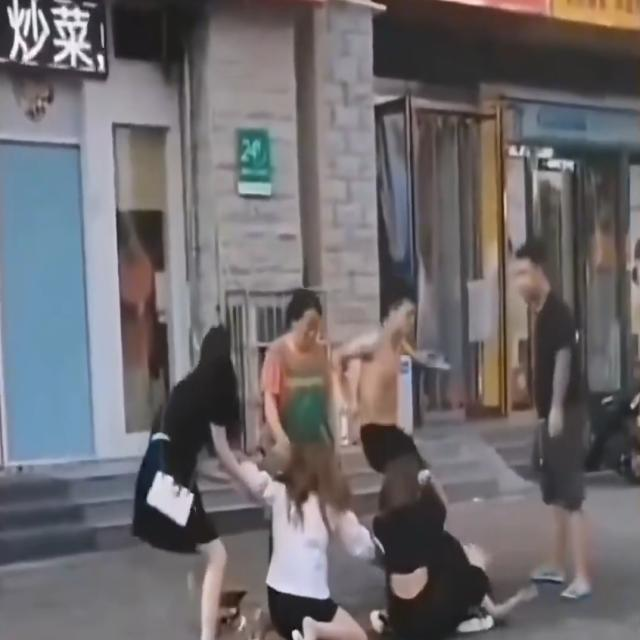fight: (267, 456, 460, 598)
